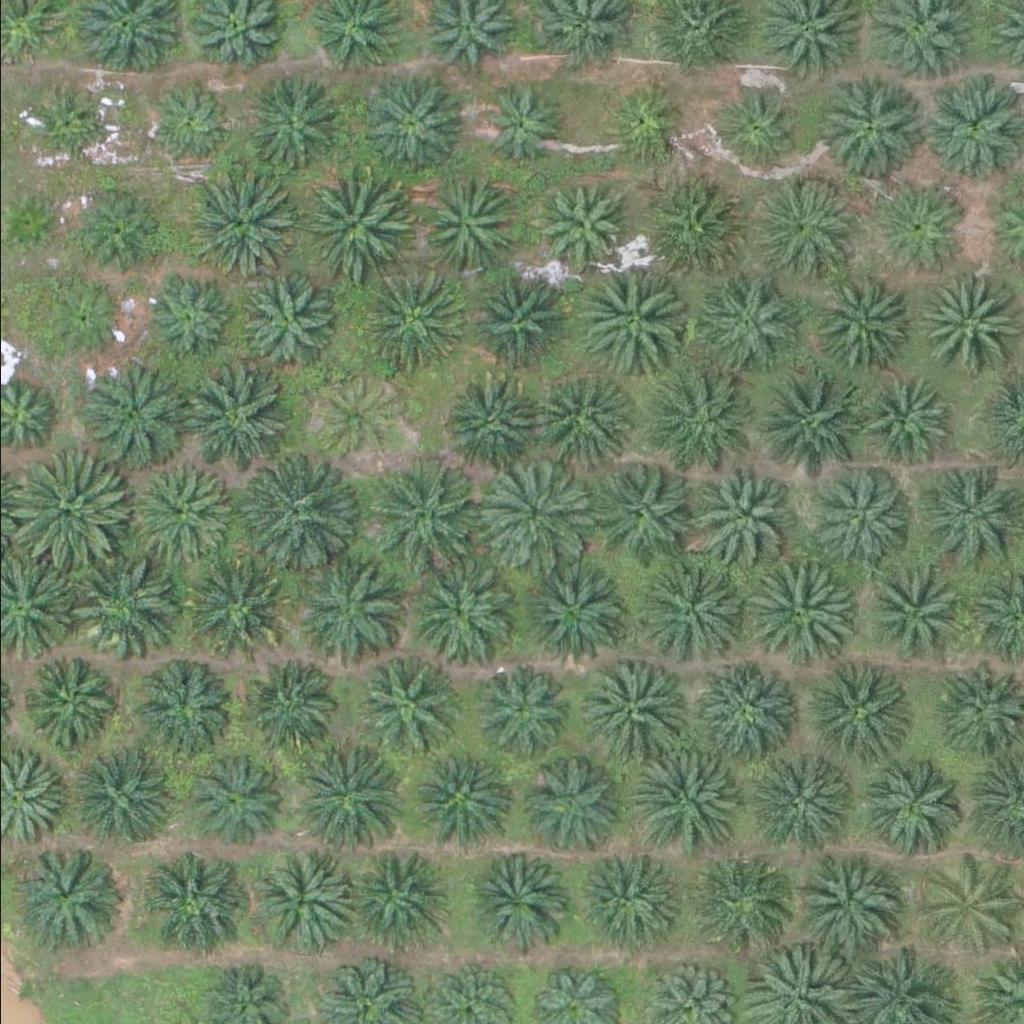Kelapa_Sawit: (362, 455, 476, 568), (577, 256, 690, 369), (739, 555, 852, 668), (632, 747, 745, 860), (70, 548, 183, 661), (237, 455, 350, 568), (184, 165, 297, 278), (296, 166, 409, 279), (741, 753, 855, 865), (16, 453, 130, 565), (750, 176, 863, 288), (750, 365, 863, 477), (478, 456, 591, 568), (635, 557, 748, 669), (793, 856, 906, 968), (292, 743, 405, 855), (354, 264, 467, 376), (171, 362, 284, 474), (78, 357, 191, 469), (819, 76, 920, 176), (643, 188, 744, 288), (908, 271, 1009, 371), (696, 270, 797, 370), (467, 261, 568, 361), (536, 364, 637, 464), (636, 374, 737, 474), (809, 468, 910, 568), (693, 465, 794, 565), (528, 563, 629, 663), (862, 564, 963, 664), (805, 658, 906, 758), (697, 664, 798, 764), (572, 663, 673, 763), (520, 756, 621, 856), (861, 763, 962, 863), (915, 854, 1016, 954), (685, 849, 786, 949), (570, 853, 671, 953), (462, 854, 563, 954), (10, 843, 111, 943), (16, 648, 117, 748), (252, 846, 353, 946), (340, 846, 441, 946), (408, 750, 509, 850), (128, 464, 229, 564), (234, 269, 335, 369), (415, 173, 516, 273), (355, 71, 456, 171), (242, 73, 343, 173), (922, 78, 1022, 178), (811, 276, 911, 376), (587, 458, 687, 558), (60, 748, 160, 848), (143, 852, 243, 952), (184, 748, 284, 848), (139, 660, 239, 760), (359, 652, 459, 752), (243, 657, 343, 757), (410, 563, 510, 663), (293, 563, 393, 663), (180, 555, 280, 655), (440, 365, 540, 465), (604, 82, 692, 170), (717, 82, 805, 170), (536, 177, 624, 265), (40, 273, 128, 361), (309, 374, 397, 462), (142, 78, 230, 166), (143, 275, 232, 362), (472, 77, 560, 164), (873, 186, 961, 273), (864, 375, 952, 462), (476, 666, 564, 753), (70, 184, 158, 271), (20, 90, 95, 165)
